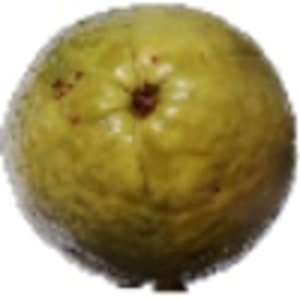goiaba: (3, 8, 292, 279)
